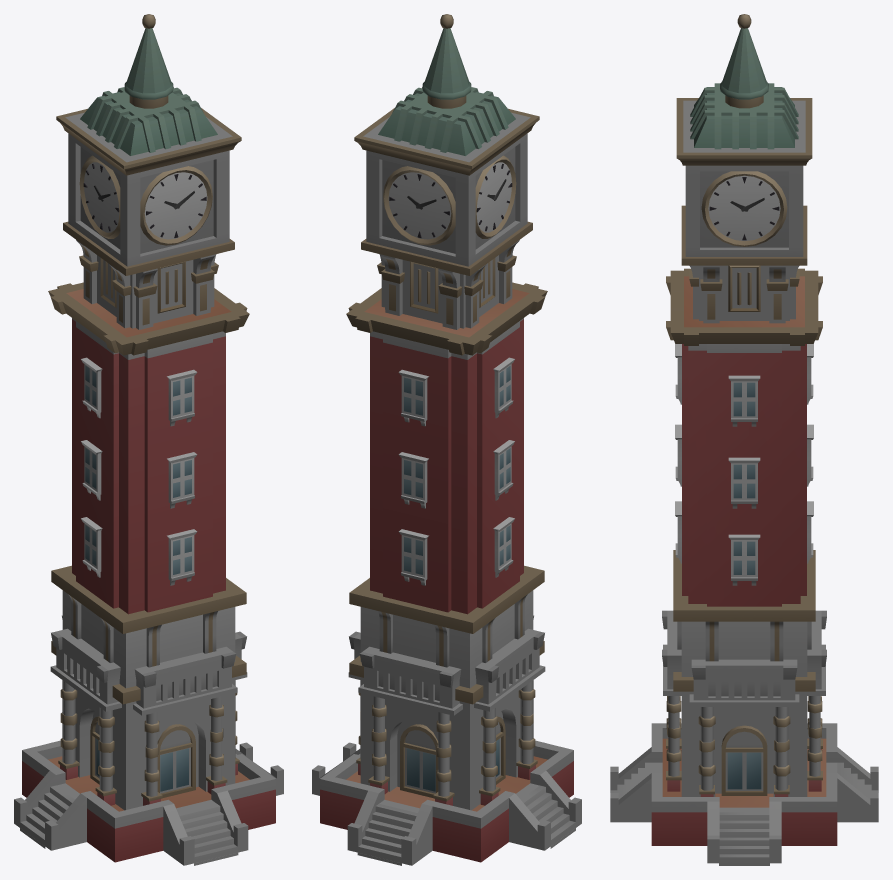
Rendered from OBJ_ClockTower.fbx.
3 views of the same model, side by side, from view 1: azimuth 30°, elevation 25°; view 2: azimuth 150°, elevation 25°; view 3: azimuth 270°, elevation 25° (orthographic).
Parts seen in each view (by area): view 1: OBJ_ClockTower; view 2: OBJ_ClockTower; view 3: OBJ_ClockTower.
Boxes of the visible parts, x1,y1,x2,y2 form: OBJ_ClockTower: (14,14,283,865); OBJ_ClockTower: (312,14,581,865); OBJ_ClockTower: (610,14,878,865).
Bounding box in the file's own units: 64.92 × 212 × 64.92.
